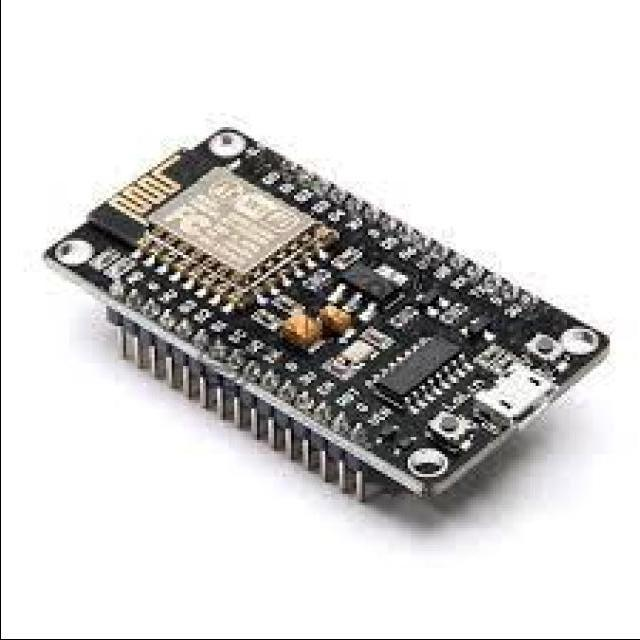Esp8266: (46, 129, 610, 500)
